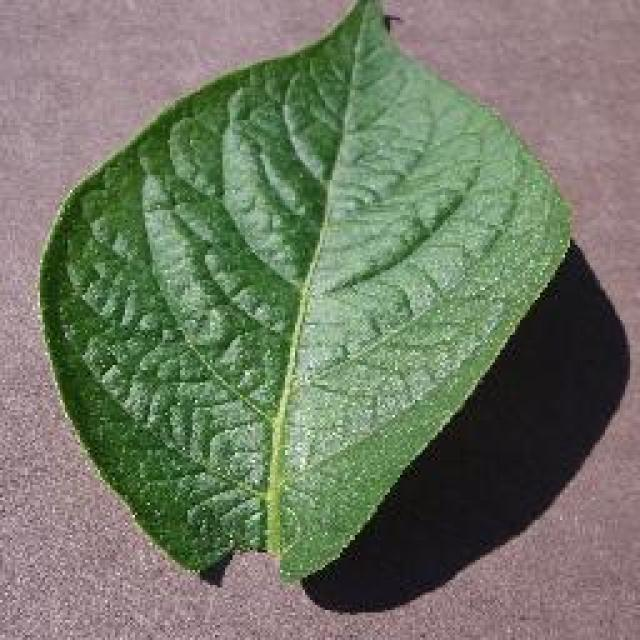Potato: (35, 0, 573, 588)
